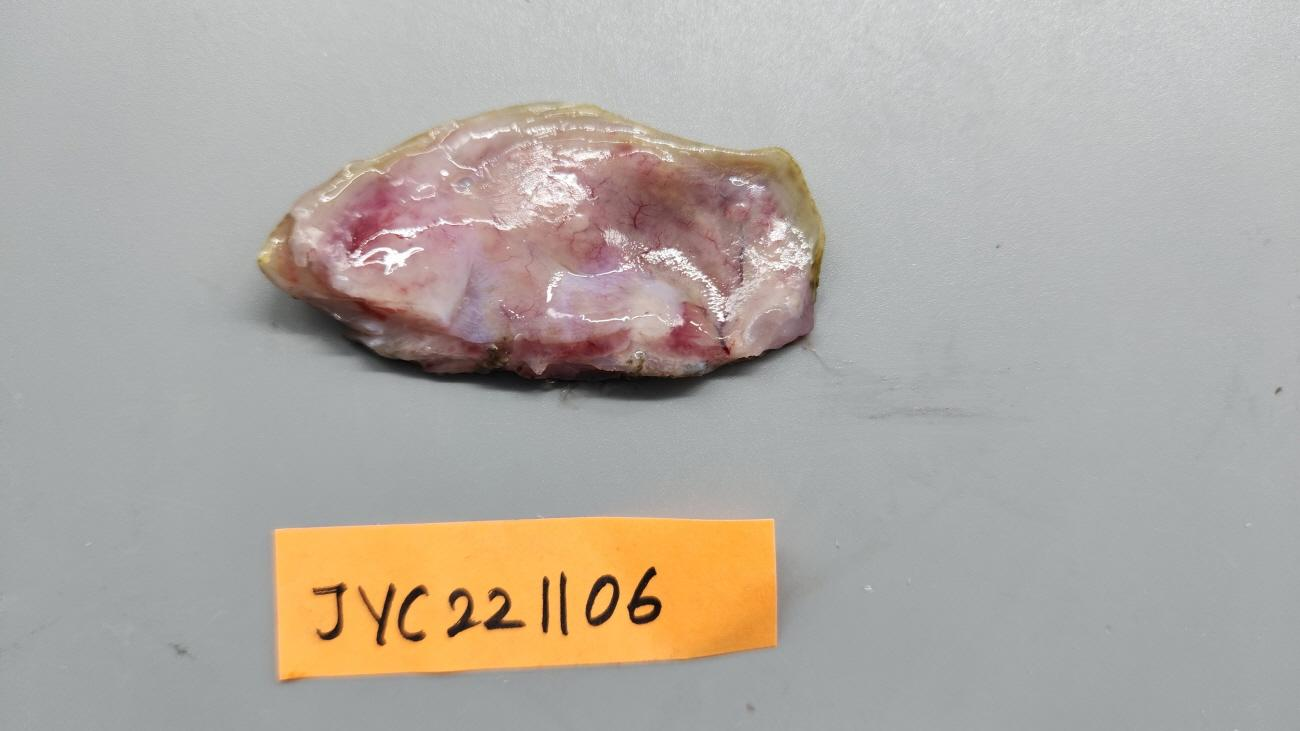SPGCH: (466, 328, 628, 359)
